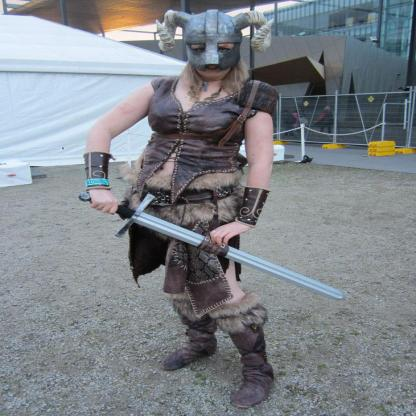Helmet: (154, 5, 257, 93)
